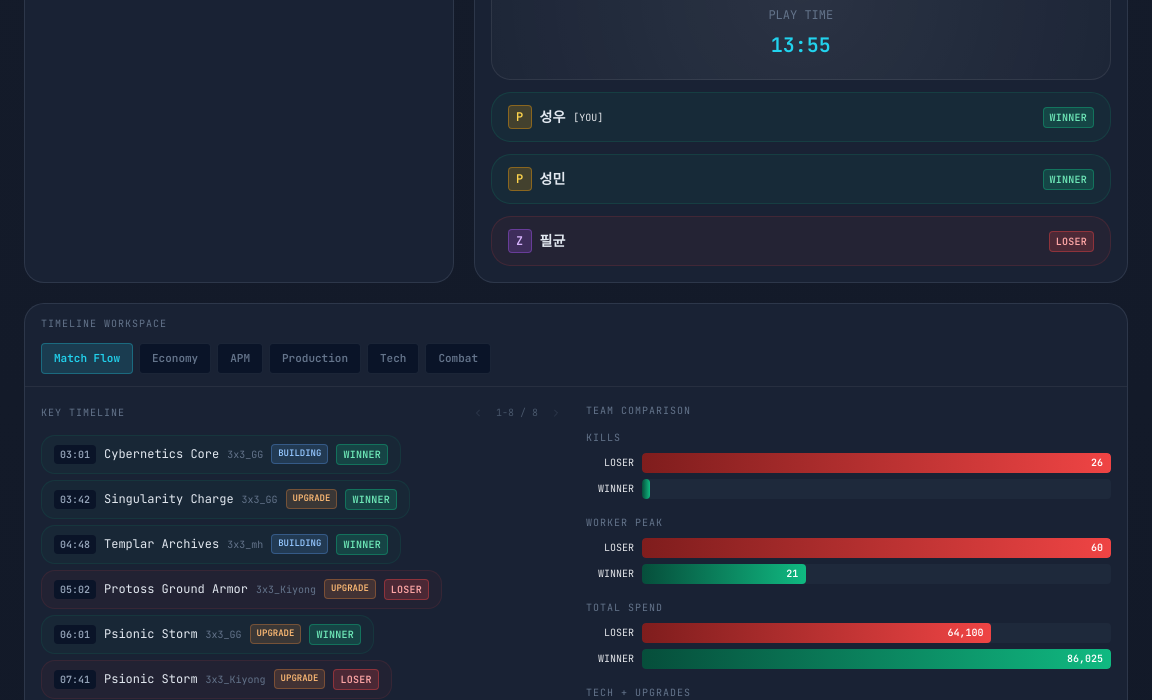
Test case: analyzer page › matches the legacy apm hide-show toggle semantics
(page scrolled)
What coordinates should you click on to do the following:
click the button "APM"
I would click on:
 (240, 358)
Its box is [217,343,263,374].
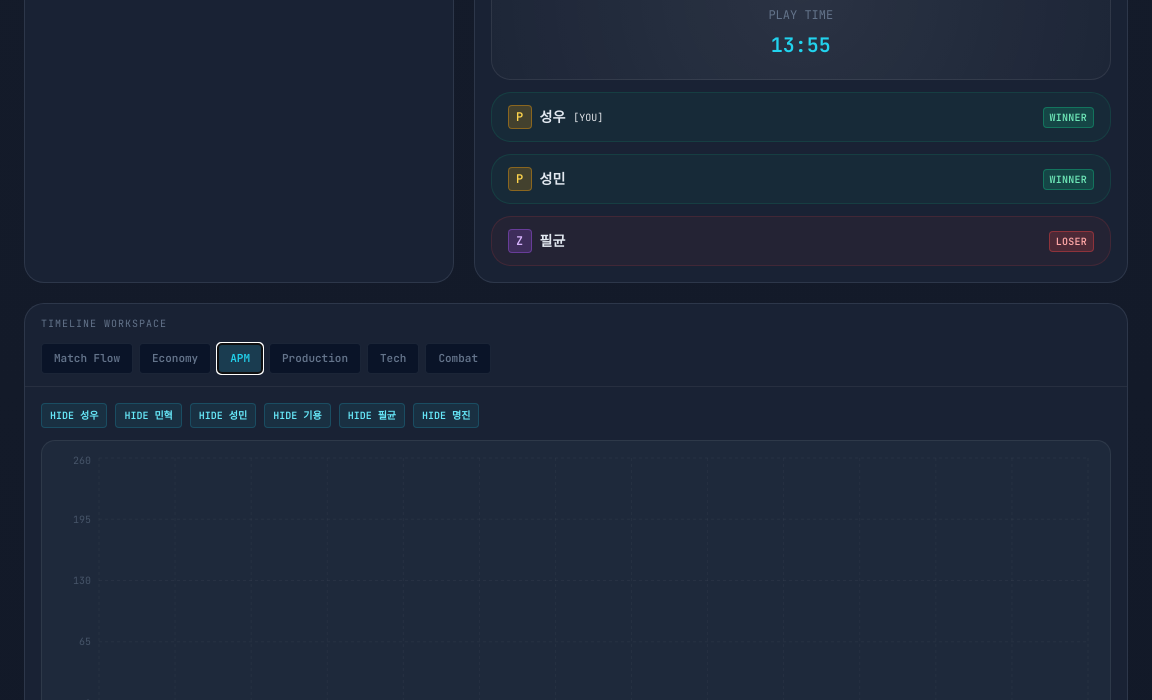
What coordinates should you click on to do the following:
click the button "HIDE 성우"
I would click on:
 (74, 415)
Its box is [41,402,107,428].
(page scrolled)
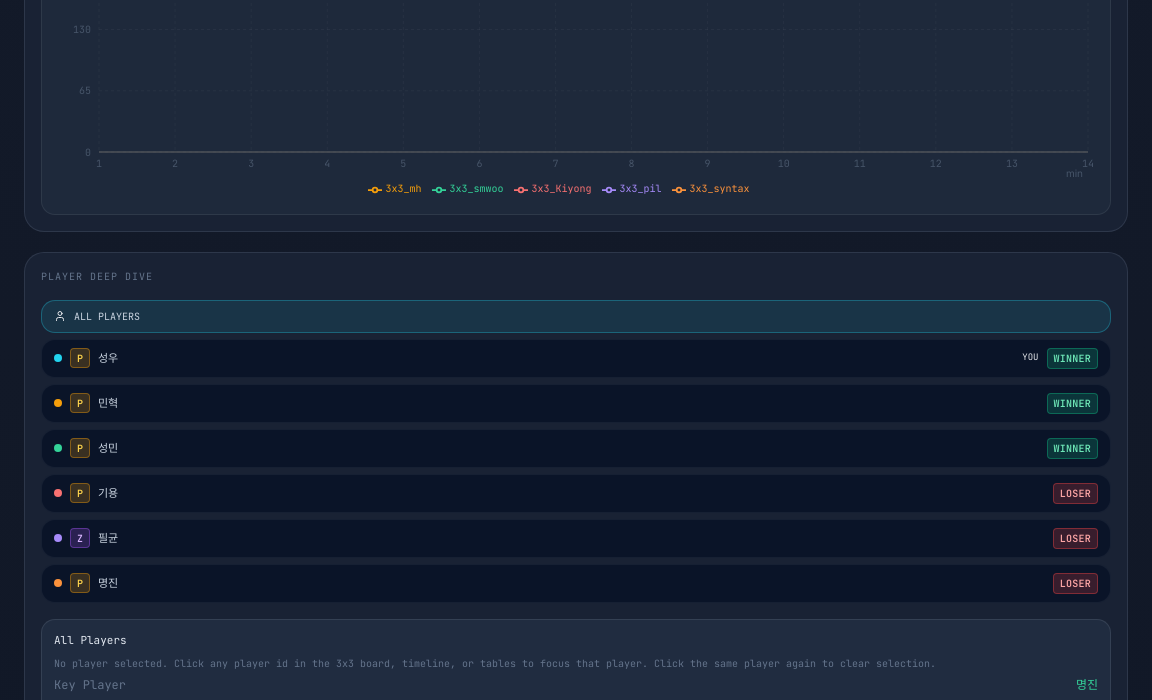
What coordinates should you click on to do the following:
click the button "P 성우 YOU WINNER"
I would click on:
 (1072, 358)
Its box is [41,338,1111,378].
(page scrolled)
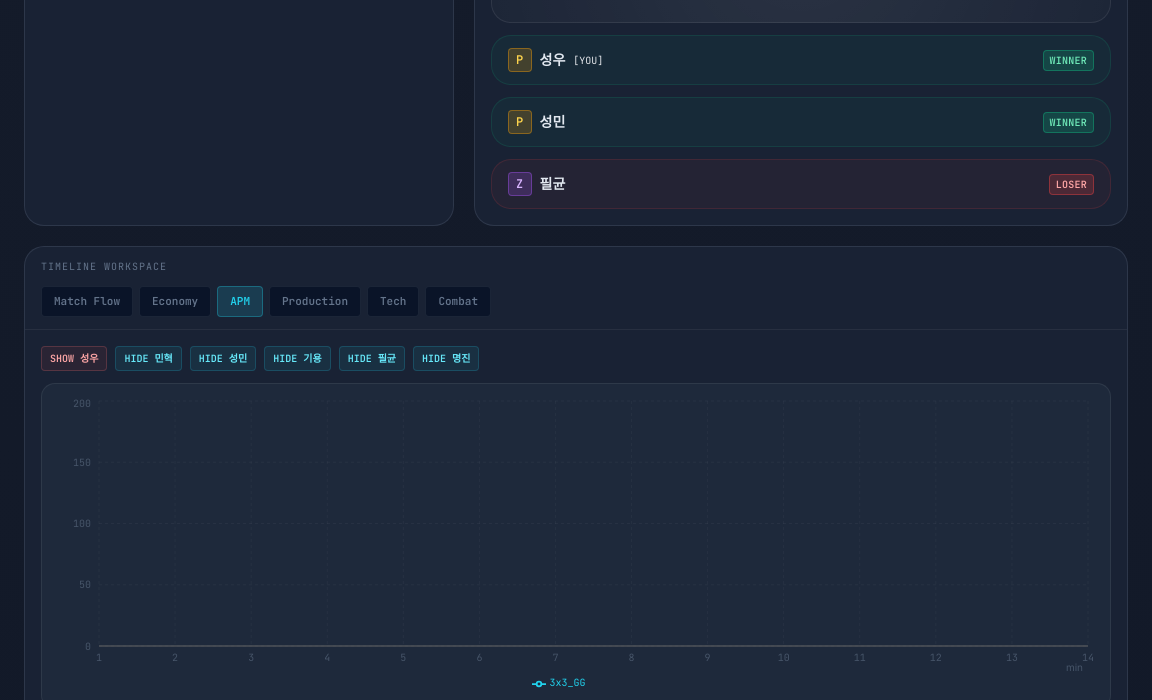
What coordinates should you click on to do the following:
click the button "SHOW 성우"
I would click on:
 (74, 358)
Its box is [41,346,107,370].
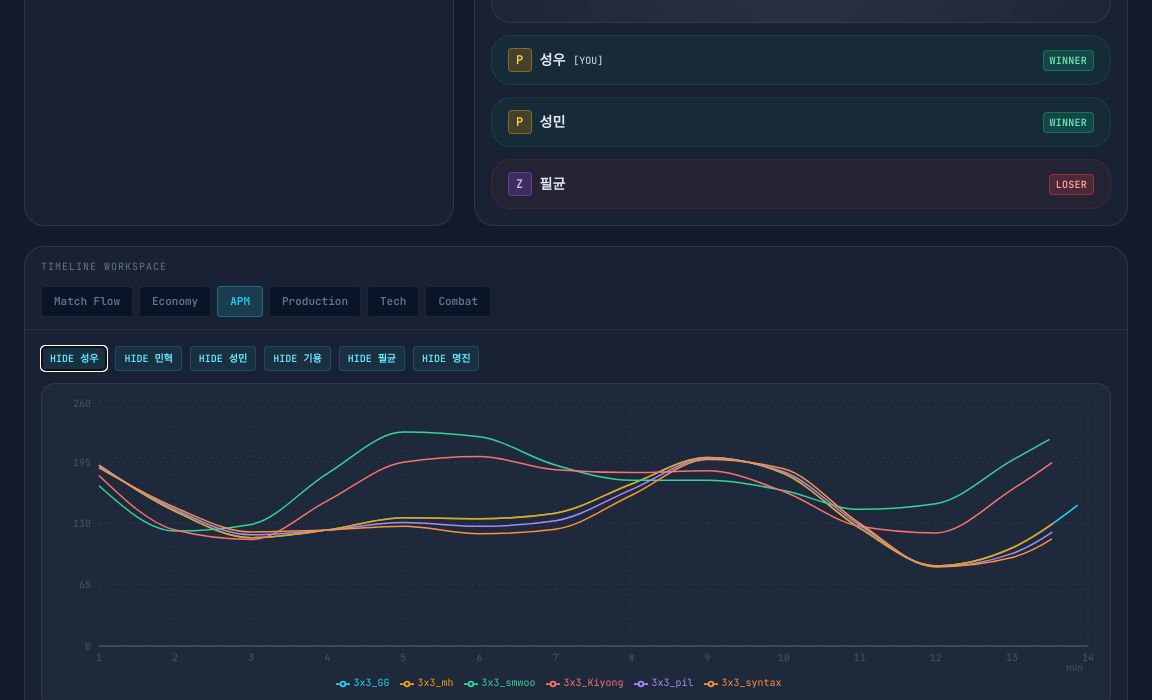
Result: the button "HIDE 성우" is shown at [41,346,107,370]
